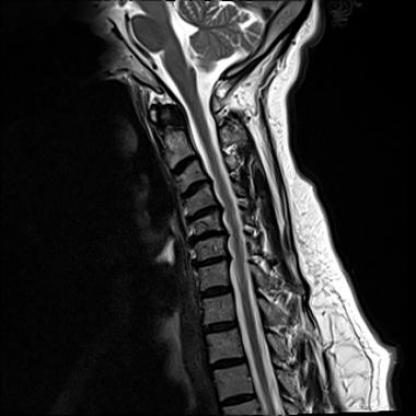Disc Protrusionrotation: (186, 206, 222, 223), (180, 180, 211, 198), (189, 229, 225, 244), (195, 256, 227, 270)
